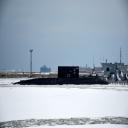submarine: (8, 65, 114, 86)
